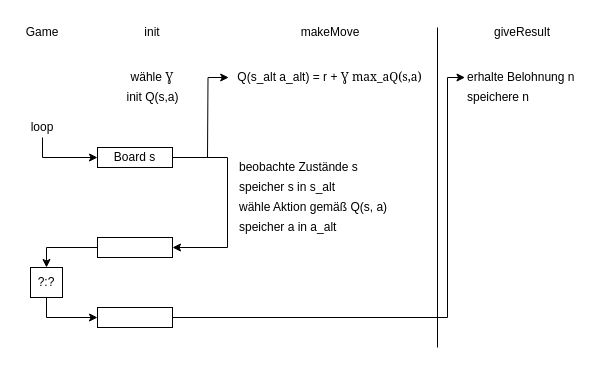
Some shapes in this 597 by 366 pixel diagram are drawn without their labels. The shapes that lost their labels are listed below. From the top down, each one's centre as x and y in pixels, then its label:
At pixel 134 247: "Aktion a".
At pixel 134 317: "Result r".
